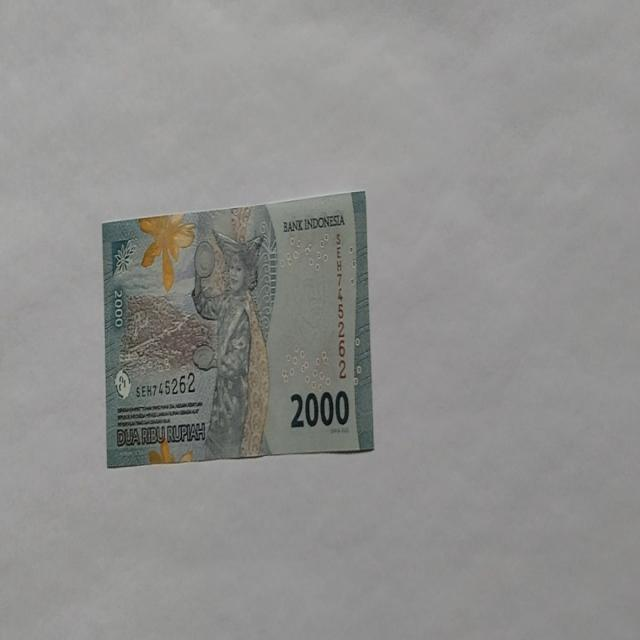dua ribu rupiah: (102, 188, 374, 467), (190, 226, 270, 459)
